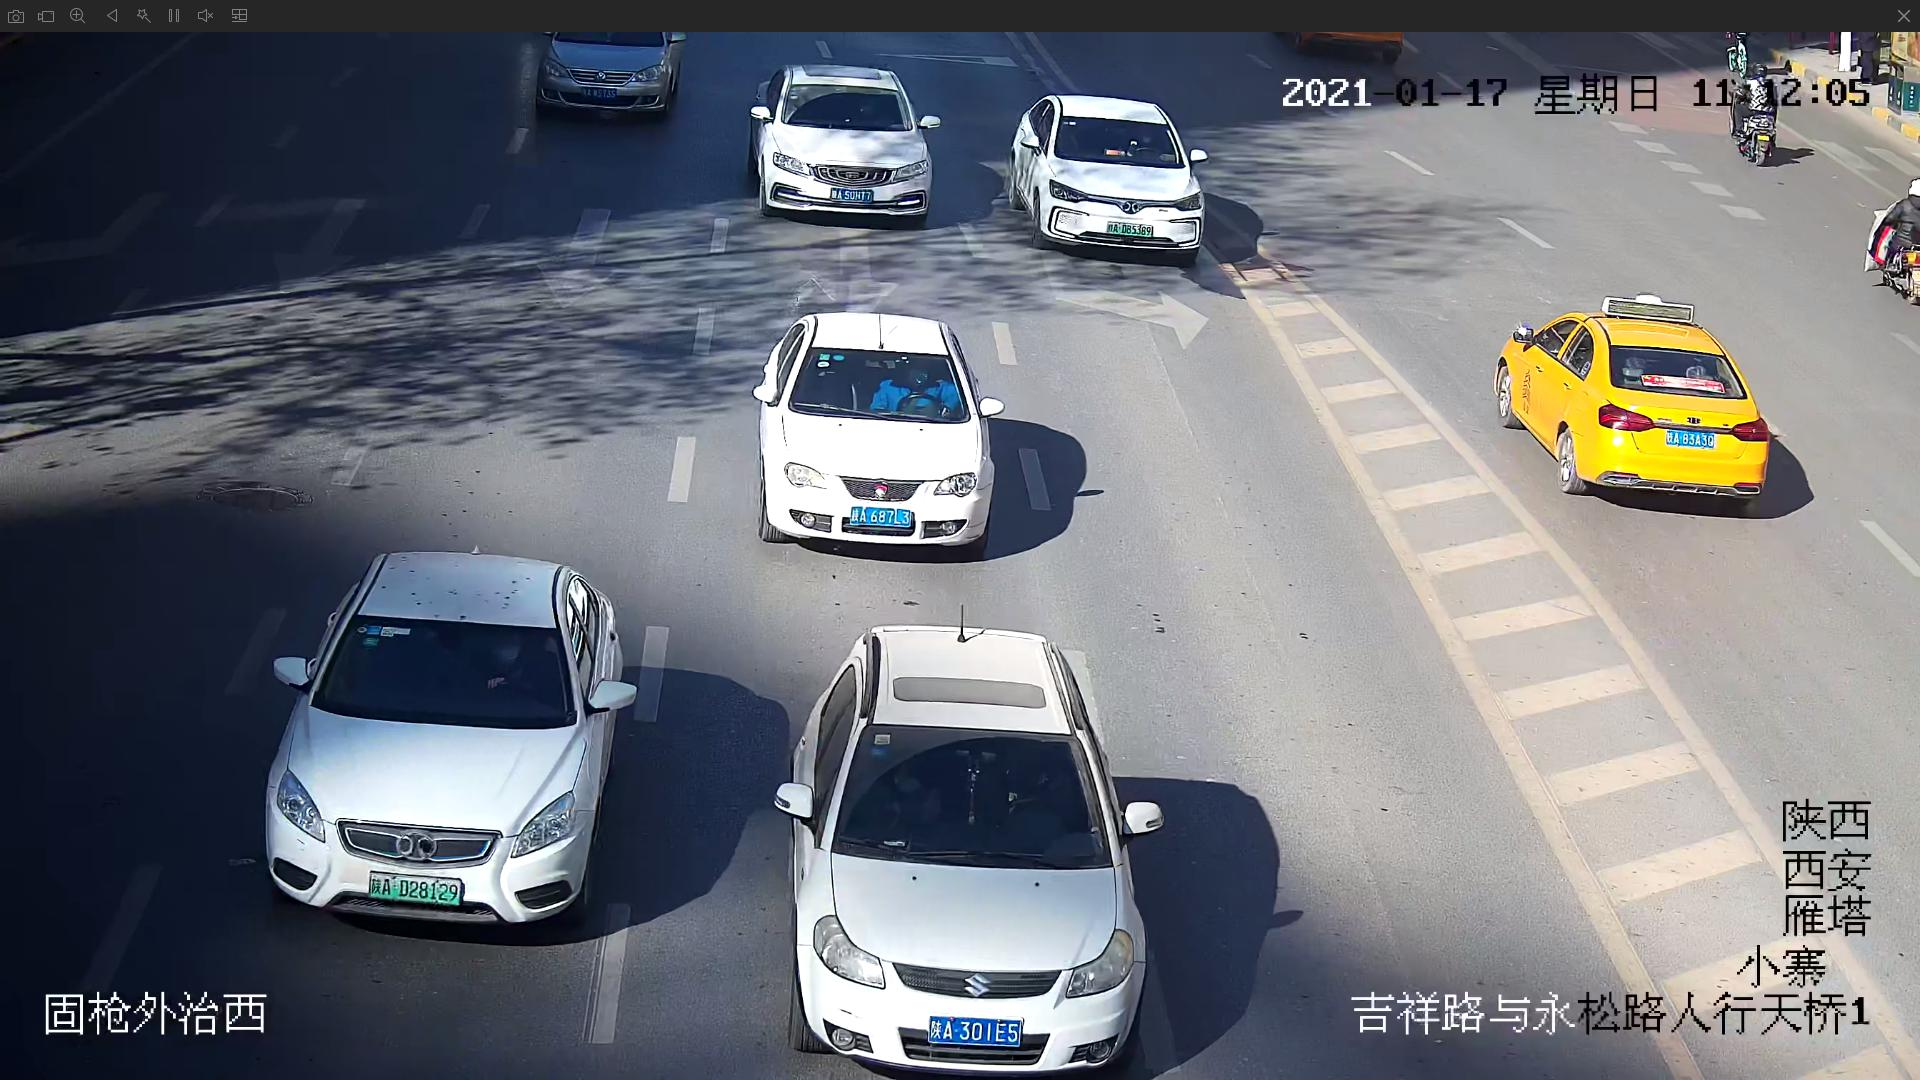white: (781, 624, 1162, 1077), (258, 549, 632, 932), (745, 311, 1001, 560), (742, 58, 942, 229), (1014, 95, 1208, 261)
